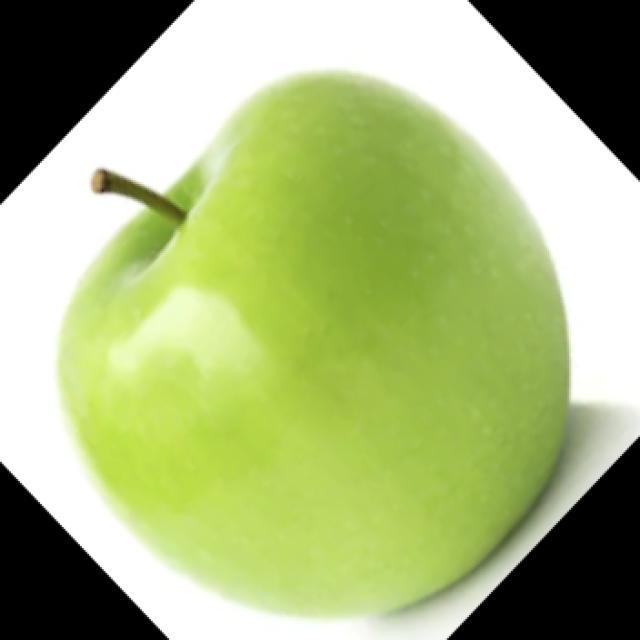Apple: (55, 67, 571, 619)
